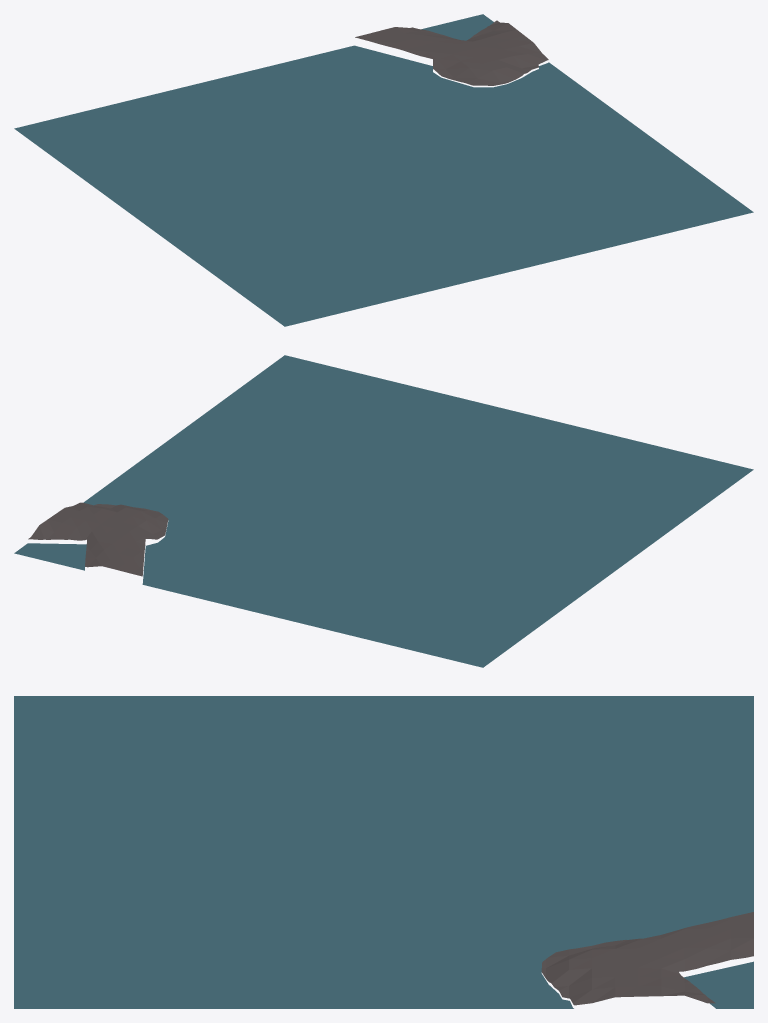
3 views of the same model, one above another, from view 1: azimuth 30°, elevation 25°; view 2: azimuth 150°, elevation 25°; view 3: azimuth 270°, elevation 25° (orthographic). The views are drawn at different scales.
Parts seen in each view (by area): view 1: c_m22_p08; view 2: c_m22_p08; view 3: c_m22_p08.
Part boxes in pixels (left/top/right/bottom): c_m22_p08: left=14, top=14, right=753, bottom=326; c_m22_p08: left=14, top=355, right=753, bottom=667; c_m22_p08: left=14, top=696, right=753, bottom=1008.
Size of the model in its own units: 128 by 2.52 by 128.
